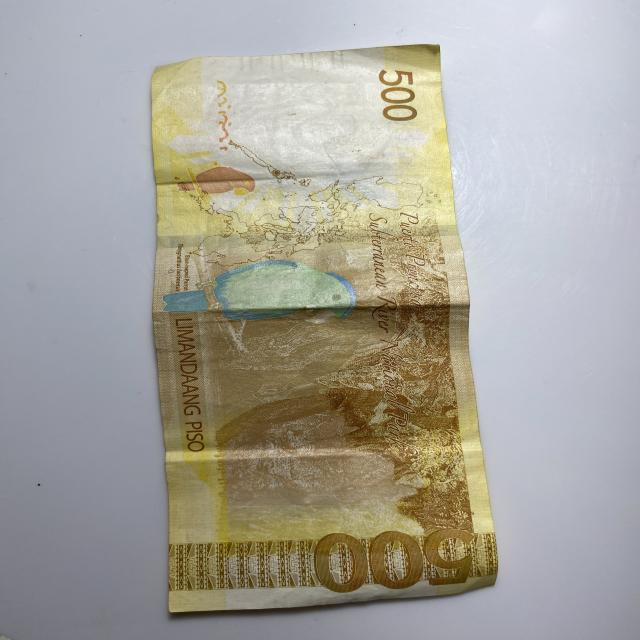500_big_parrot: (171, 260, 358, 326)
500_parrot_watermark: (175, 166, 259, 199)
value_watermark: (254, 76, 305, 94)
